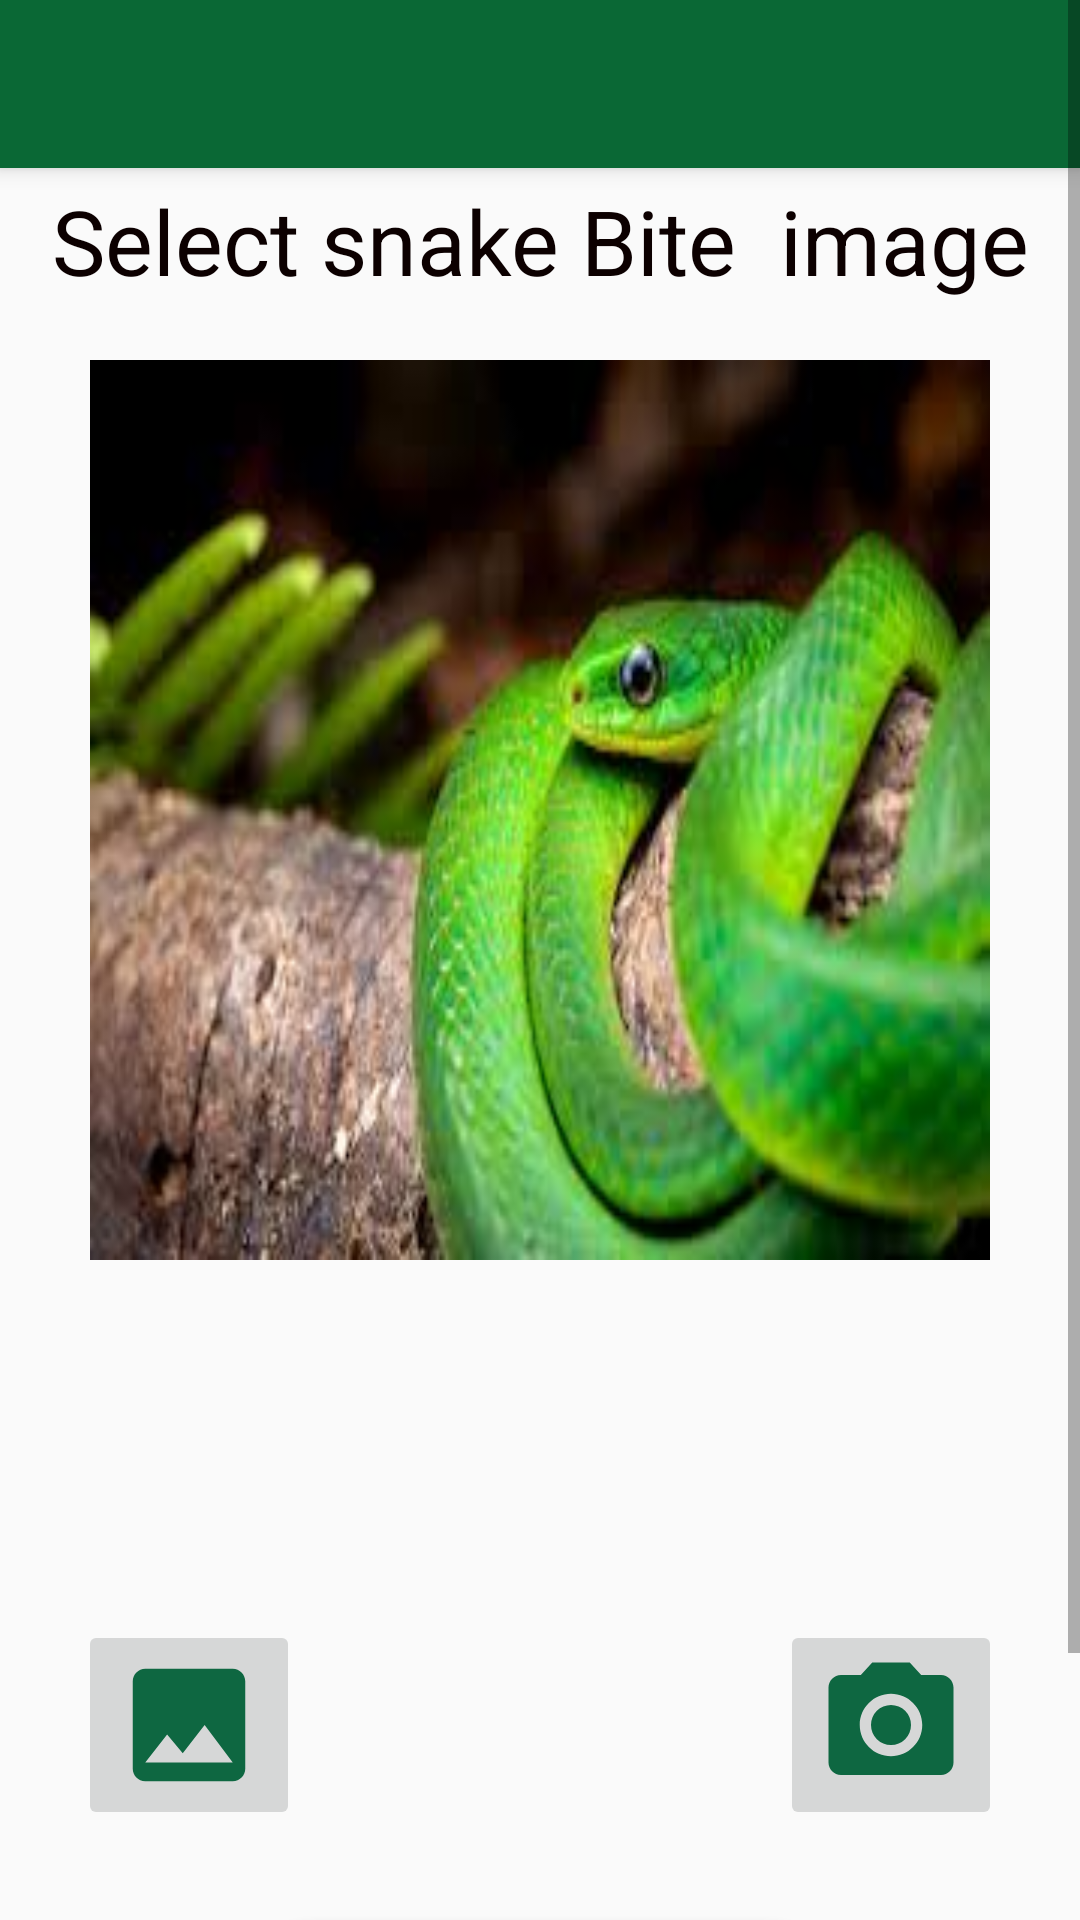

Where to tap for icons on this 1080x1920 app screen, as [x,y]:
take image: [891,1725]
uplod image: [189,1725]
